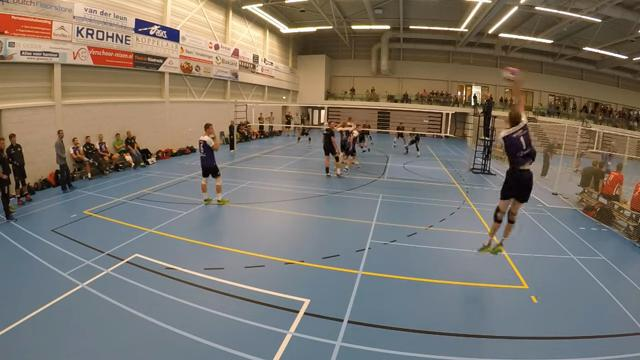battuta: (468, 60, 538, 260)
